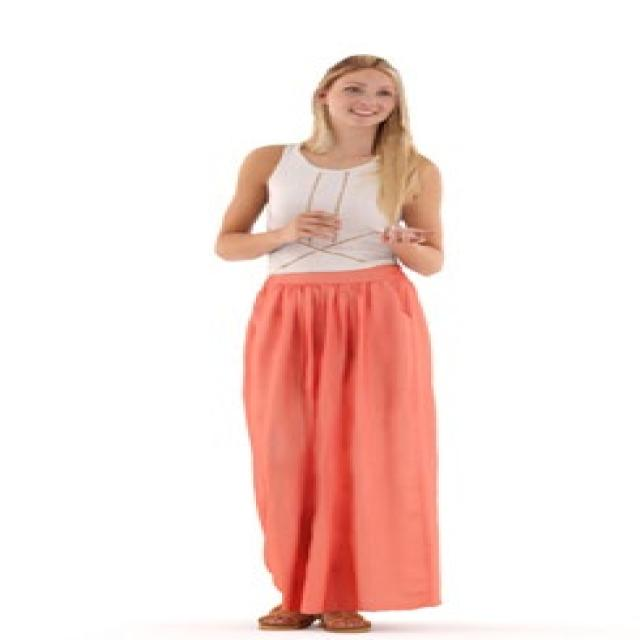standing: (215, 52, 452, 629)
